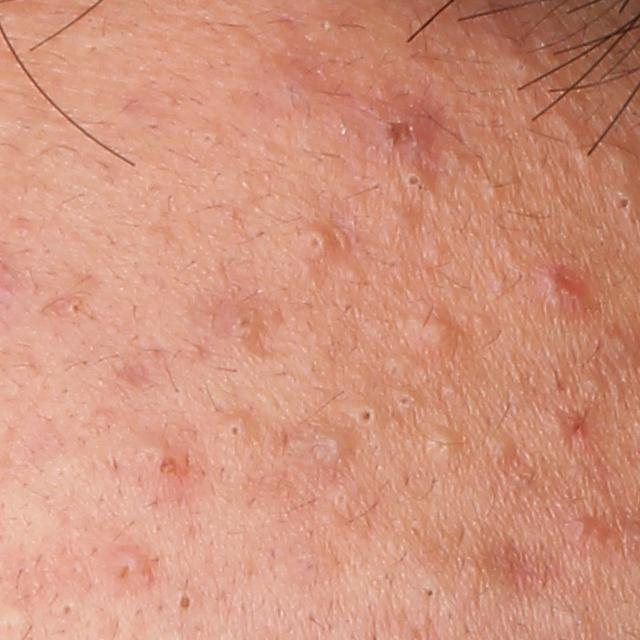atrophic_scar: (106, 358, 160, 393)
comedo: (315, 429, 370, 468), (400, 312, 455, 348), (422, 424, 462, 469), (293, 224, 333, 263), (481, 428, 519, 463), (169, 585, 204, 615), (608, 149, 637, 178), (583, 368, 609, 396), (401, 167, 428, 193), (506, 54, 534, 79), (354, 402, 378, 429), (616, 190, 635, 220), (394, 389, 417, 411), (65, 295, 86, 319), (420, 582, 440, 605), (199, 127, 219, 150), (59, 599, 78, 616)
papule: (362, 93, 441, 161), (529, 255, 598, 320), (103, 545, 163, 594), (141, 446, 192, 488)
